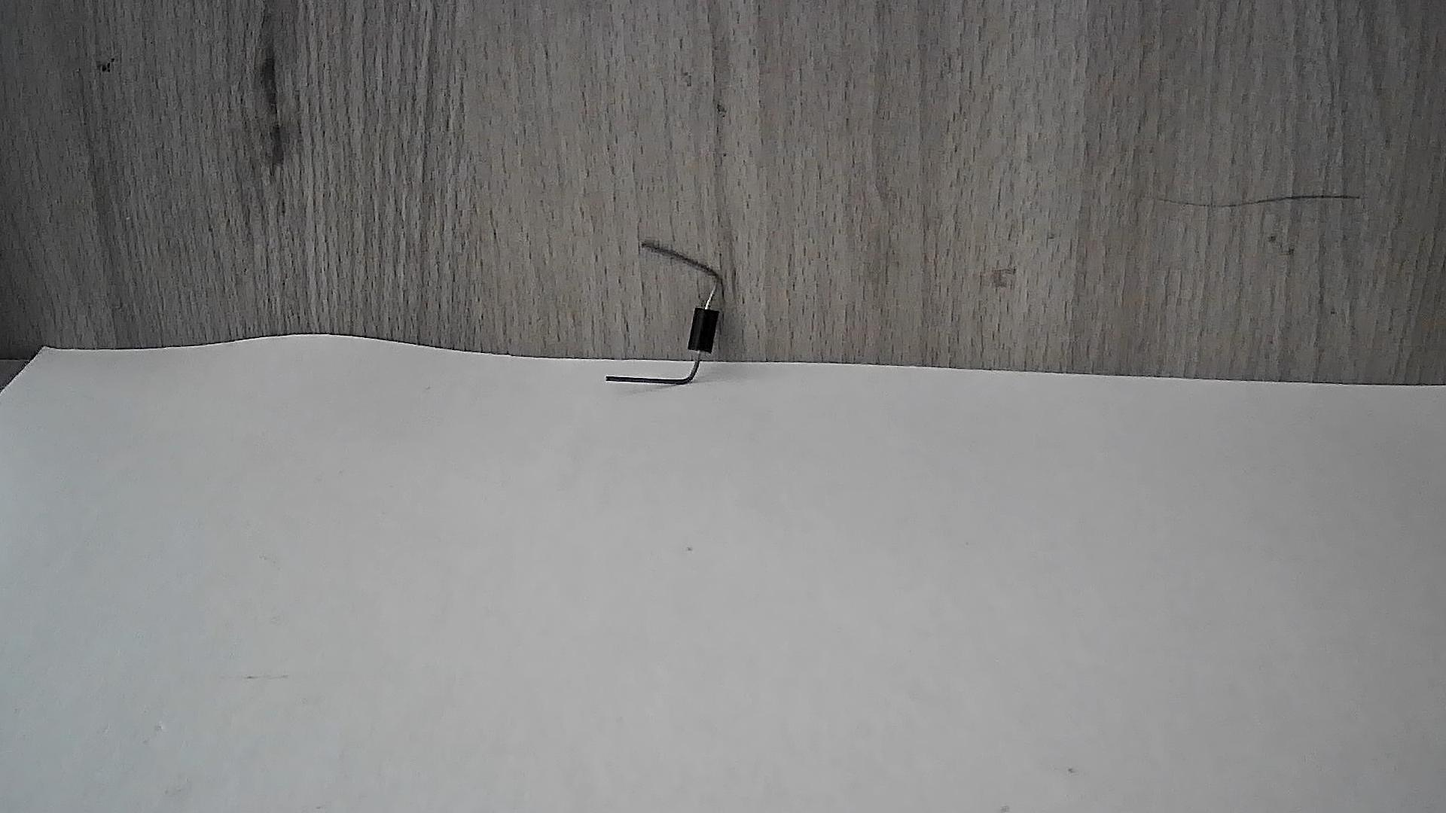Diodo: (590, 211, 764, 412)
